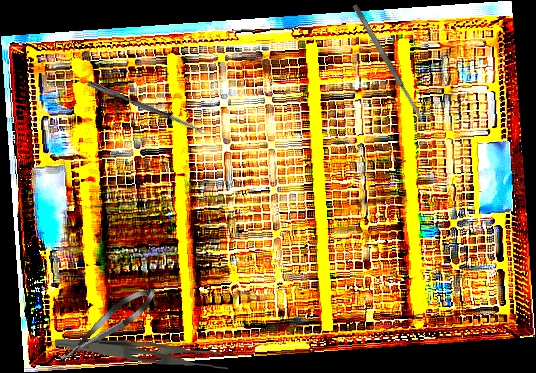Dressing Forceps: (54, 337, 229, 373)
Micro Scissor: (52, 280, 162, 370)
Spatula Surgical: (351, 3, 426, 124)
Surgical Spoon: (86, 80, 207, 136)
